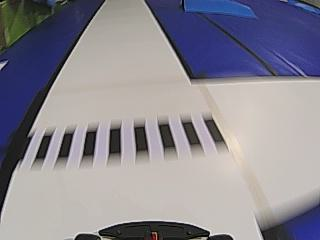CrossWalk: (9, 106, 233, 169)
